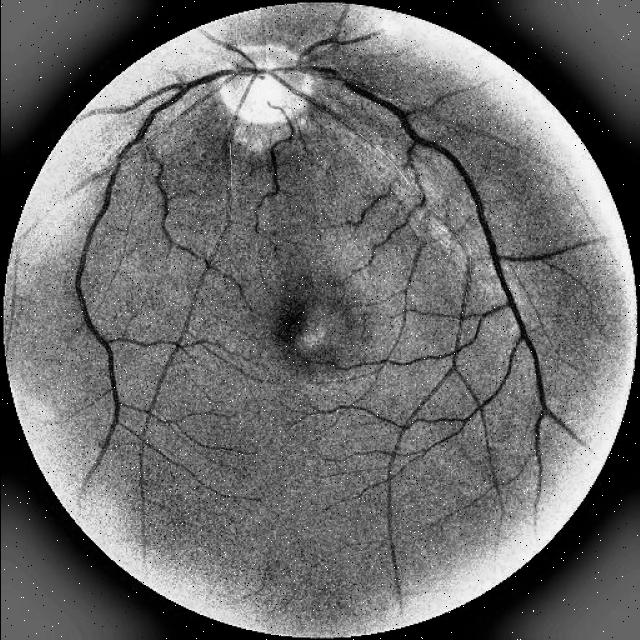Macula: (281, 309, 325, 348)
Nerves: (305, 55, 604, 440), (72, 65, 239, 490)
Optic Disk: (219, 74, 308, 151), (236, 45, 298, 69)
